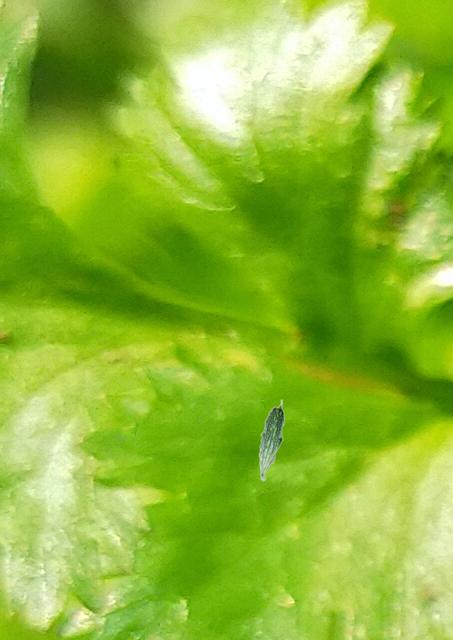ampalaya: (257, 399, 286, 481)
